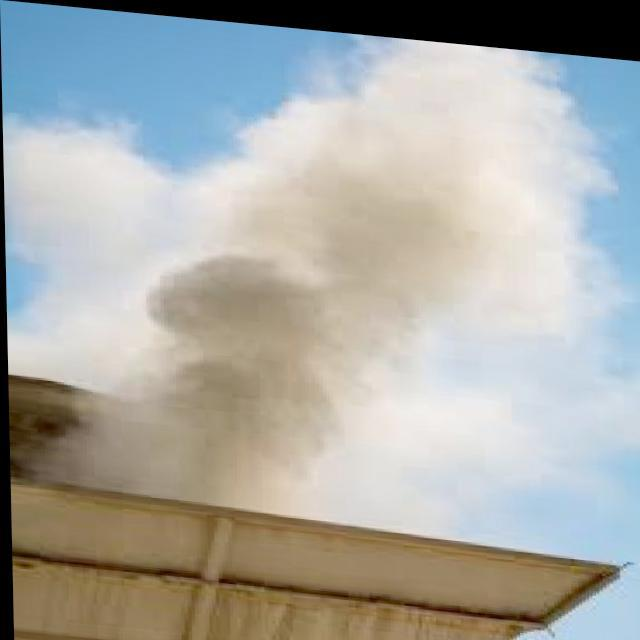Smoke: (22, 103, 529, 528)
